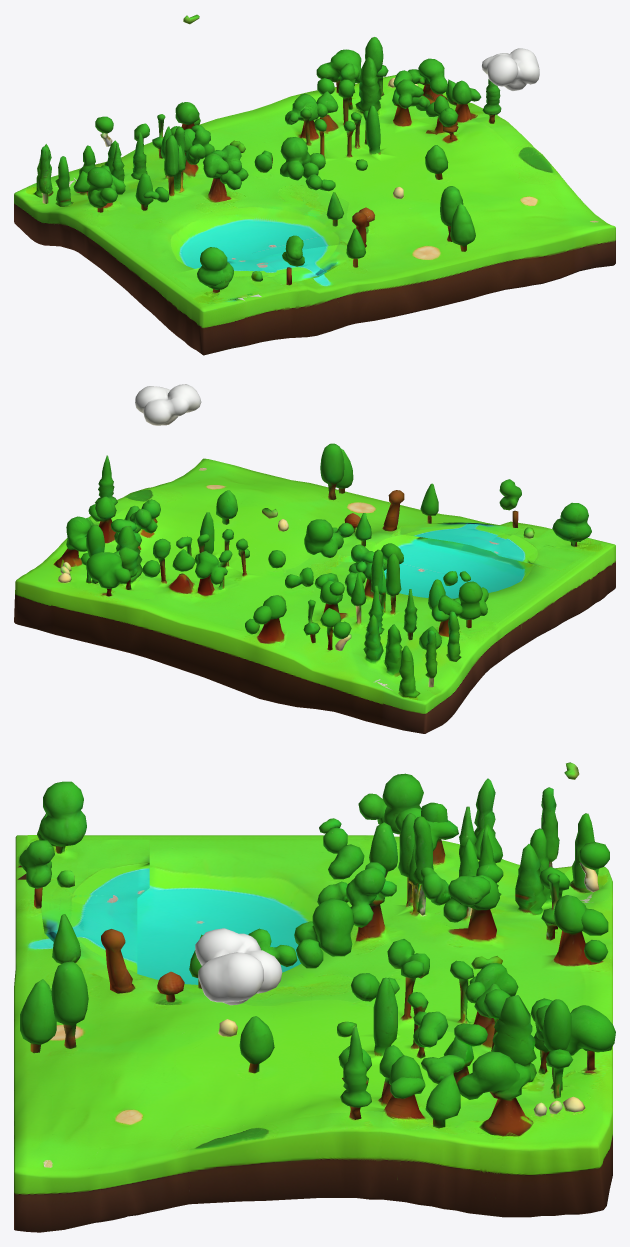
Rendered from Meshy_AI_Floating_Forest_Islan_0520031722_texture.glb.
3 renders of one model, top to bottom at view 1: azimuth 30°, elevation 25°; view 2: azimuth 150°, elevation 25°; view 3: azimuth 270°, elevation 25°, orthographic. The views are drawn at different scales.
Visible parts, largest first — view 1: Mesh_0; view 2: Mesh_0; view 3: Mesh_0.
Part boxes in pixels (x1,y1,x2,y2): Mesh_0: (14, 14, 615, 355); Mesh_0: (14, 384, 615, 733); Mesh_0: (14, 762, 615, 1232).
Bounding box in the file's own units: 11.43 × 5 × 9.27.
Materials: 1 (1 with a texture image).
